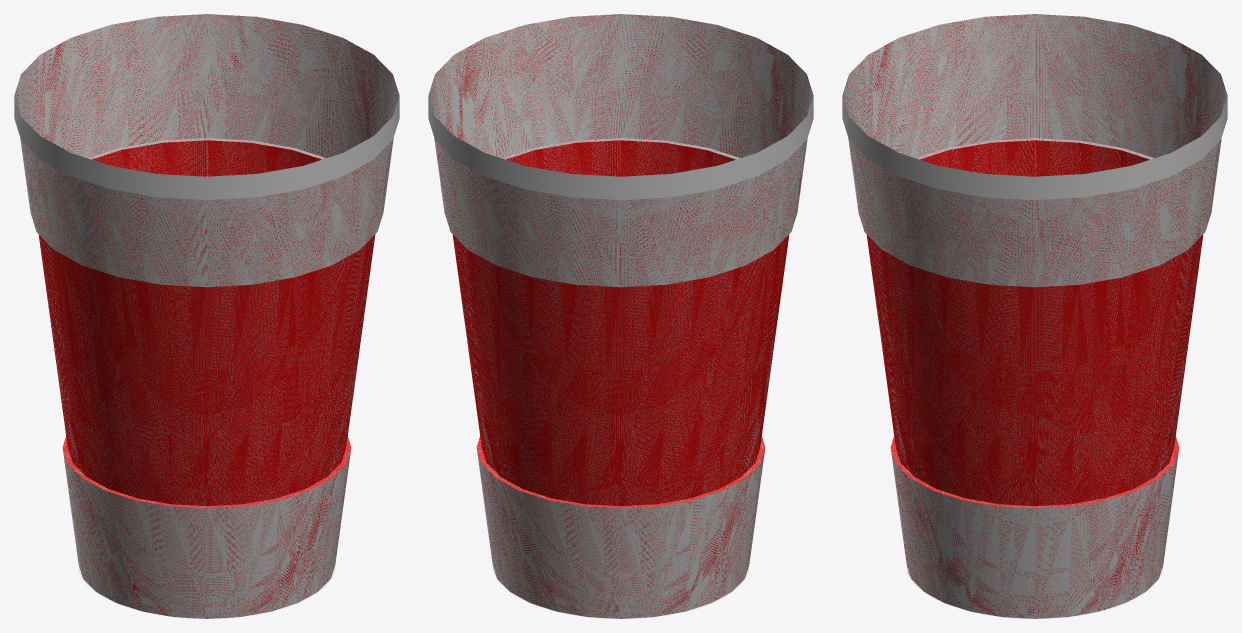
The model's file is Red+Plastic+Cup.dae.
3 renders of one model, left to right at view 1: azimuth 30°, elevation 25°; view 2: azimuth 150°, elevation 25°; view 3: azimuth 270°, elevation 25°, orthographic.
Parts seen in each view (by area): view 1: Cup (×6); view 2: Cup (×6); view 3: Cup (×6).
Part boxes in pixels (x1=…): Cup (×6): x1=14, y1=14, x2=399, y2=618; Cup (×6): x1=428, y1=14, x2=813, y2=618; Cup (×6): x1=842, y1=14, x2=1227, y2=618.
Size of the model in its own units: 3.72 by 3.72 by 5.
